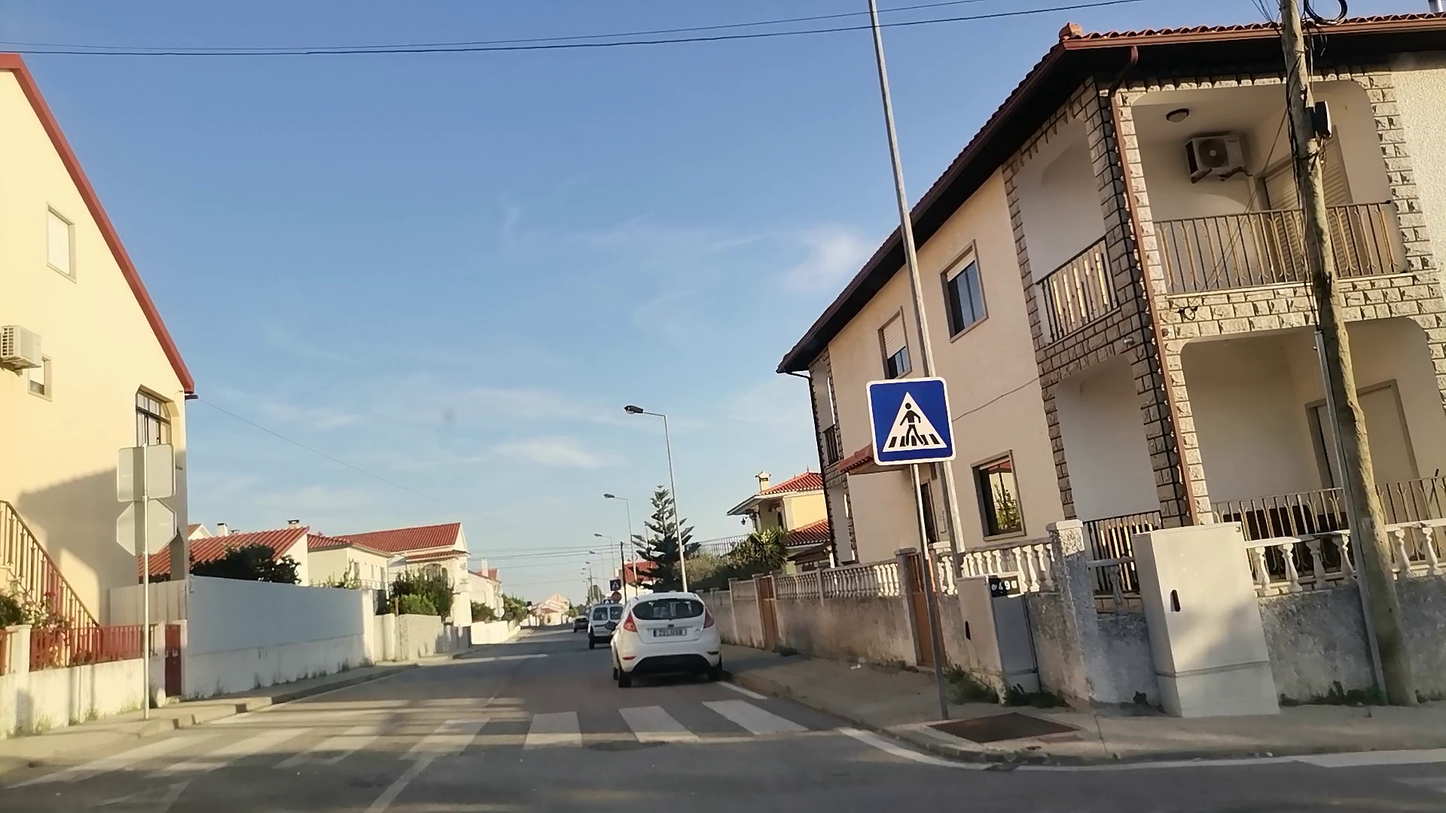Stairs: (40, 699, 816, 778)
